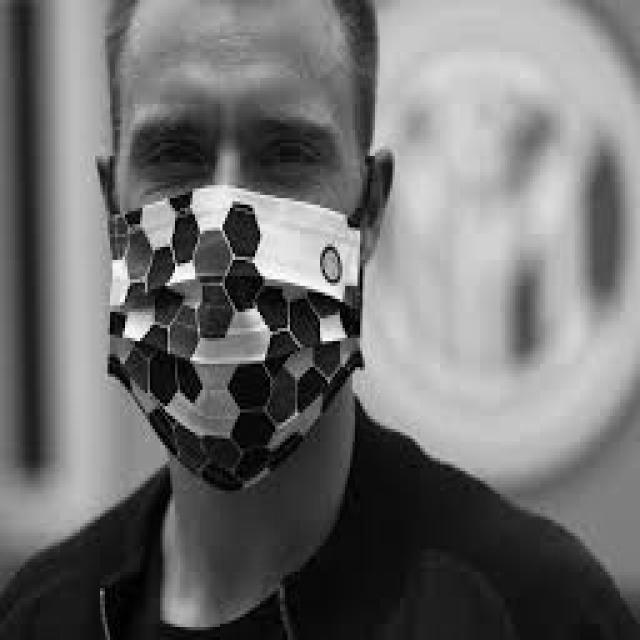fake: (76, 180, 404, 494)
real: (112, 5, 365, 504)
